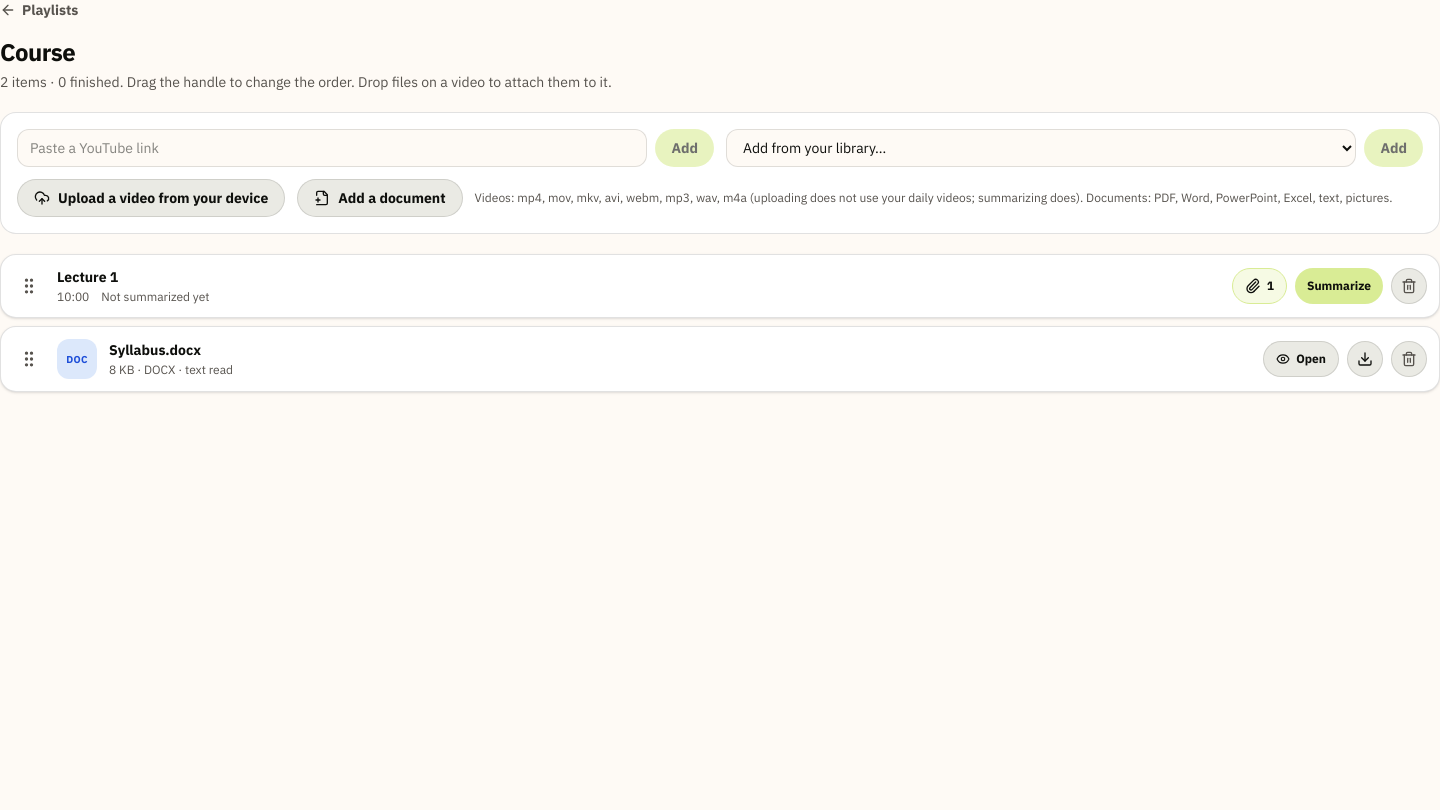
files beside the videos › opens a file row in the viewer (Word shows its text)
Click the button "Syllabus.docx 8 KB · DOCX · text read".
click(155, 350)  # box [109,340,1251,378]
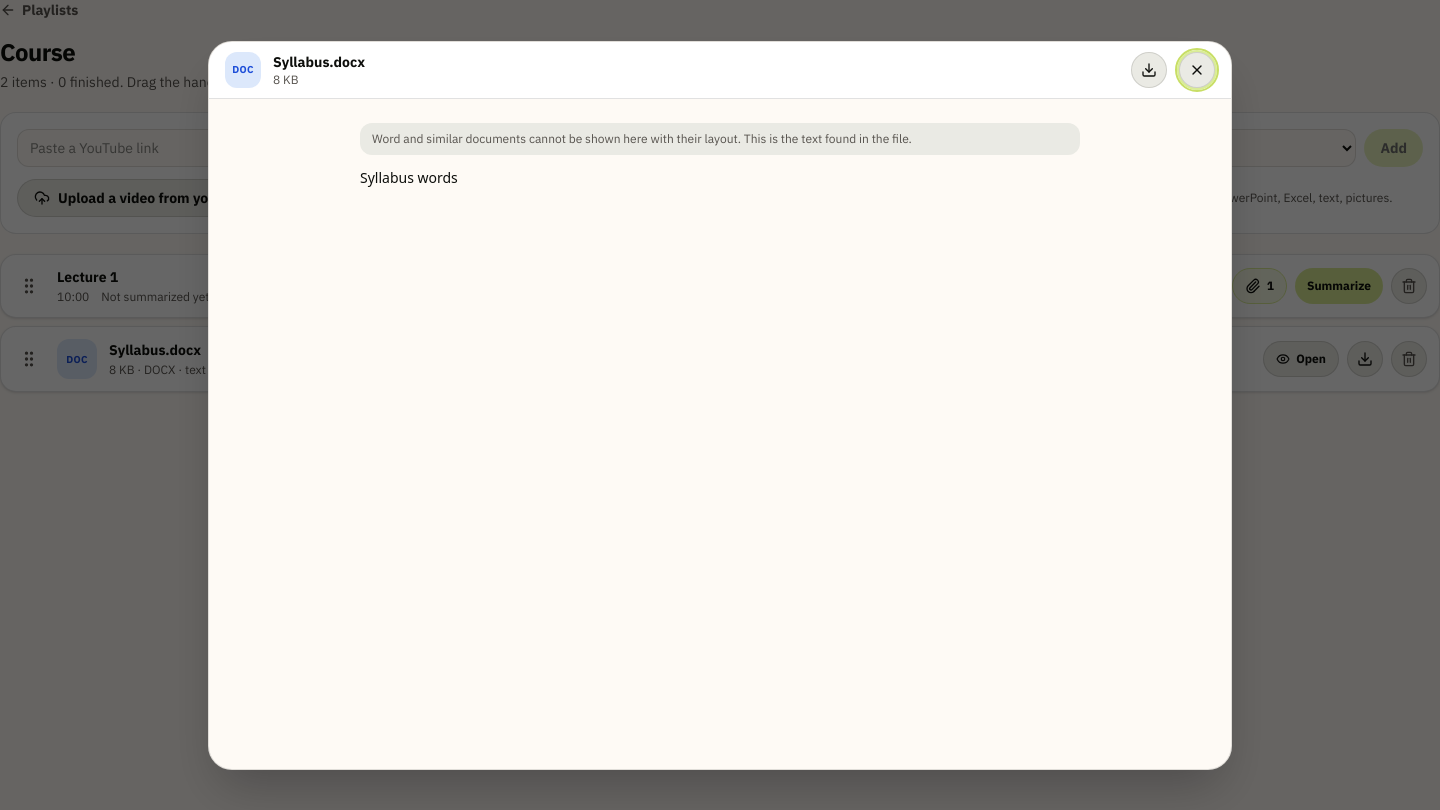
Now the text "Syllabus words" is shown, box [360,168,458,186]
